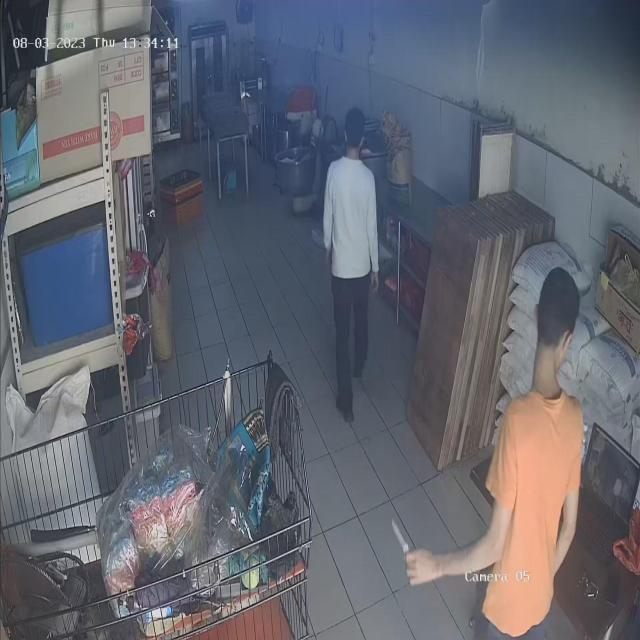Knife: (380, 512, 432, 578)
